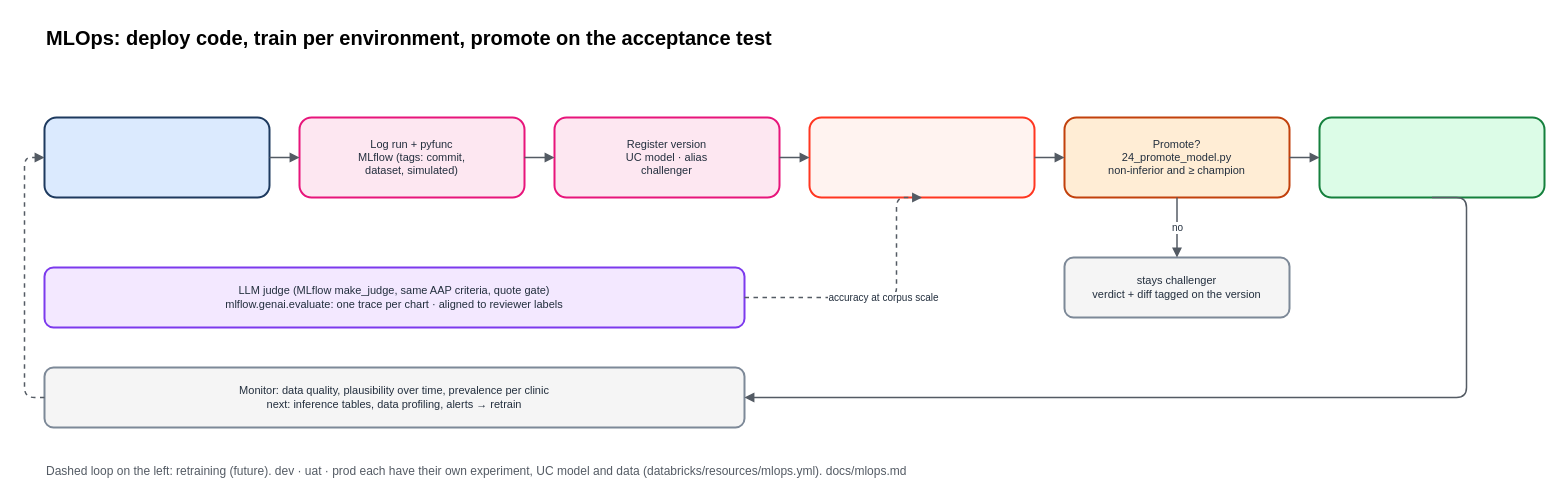
Image size: 1563x504. Some labels were removed from this diagram. The box of each missing label's shape, as (x1, y1, x2, y2) in pixels:
Acceptance test 13_reliability.py vs reviewers: (808, 116, 1035, 198)
Alias champion batch scoring / serving loads @champion: (1318, 116, 1545, 198)
Train / fit rung 11_ai_predict.py: (43, 116, 270, 198)
